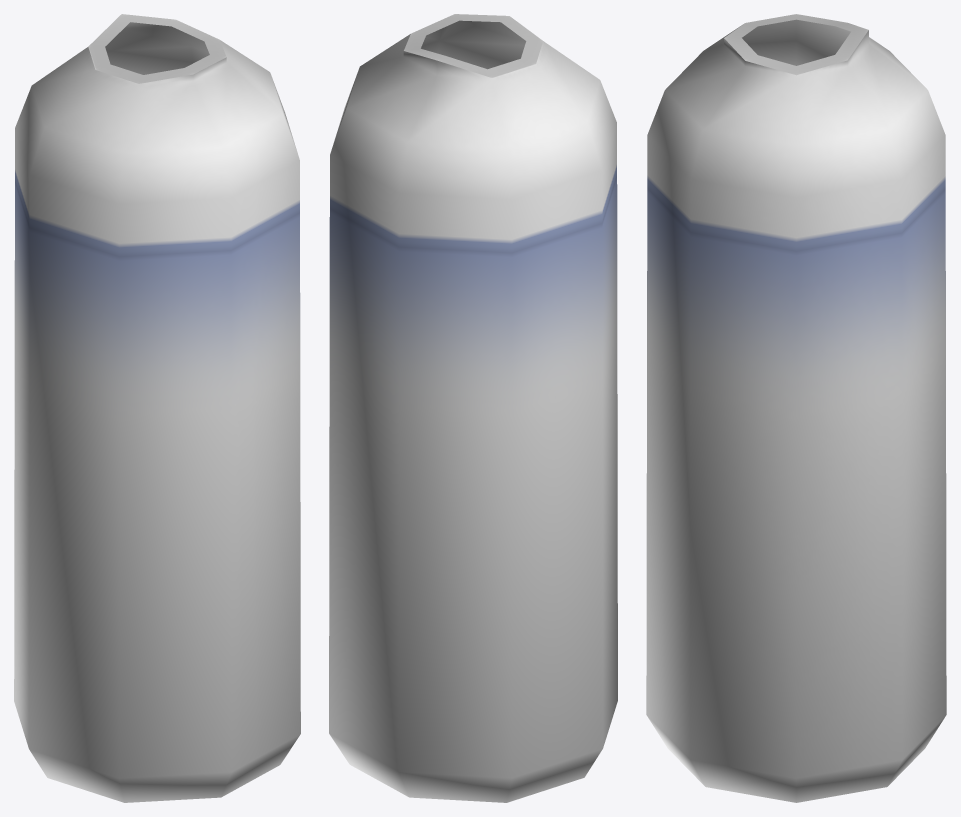
Rendered from ampoule_02_B_bottom.fbx.
3 views of the same model, side by side, from view 1: azimuth 30°, elevation 25°; view 2: azimuth 150°, elevation 25°; view 3: azimuth 270°, elevation 25° (orthographic).
Parts seen in each view (by area): view 1: ampoule_02_B; view 2: ampoule_02_B; view 3: ampoule_02_B.
Part boxes in pixels (bbox=[...]): ampoule_02_B: bbox=[14, 14, 300, 802]; ampoule_02_B: bbox=[329, 14, 617, 802]; ampoule_02_B: bbox=[646, 14, 946, 802].
Size of the model in its own units: 0.1557 by 0.4114 by 0.1557.
